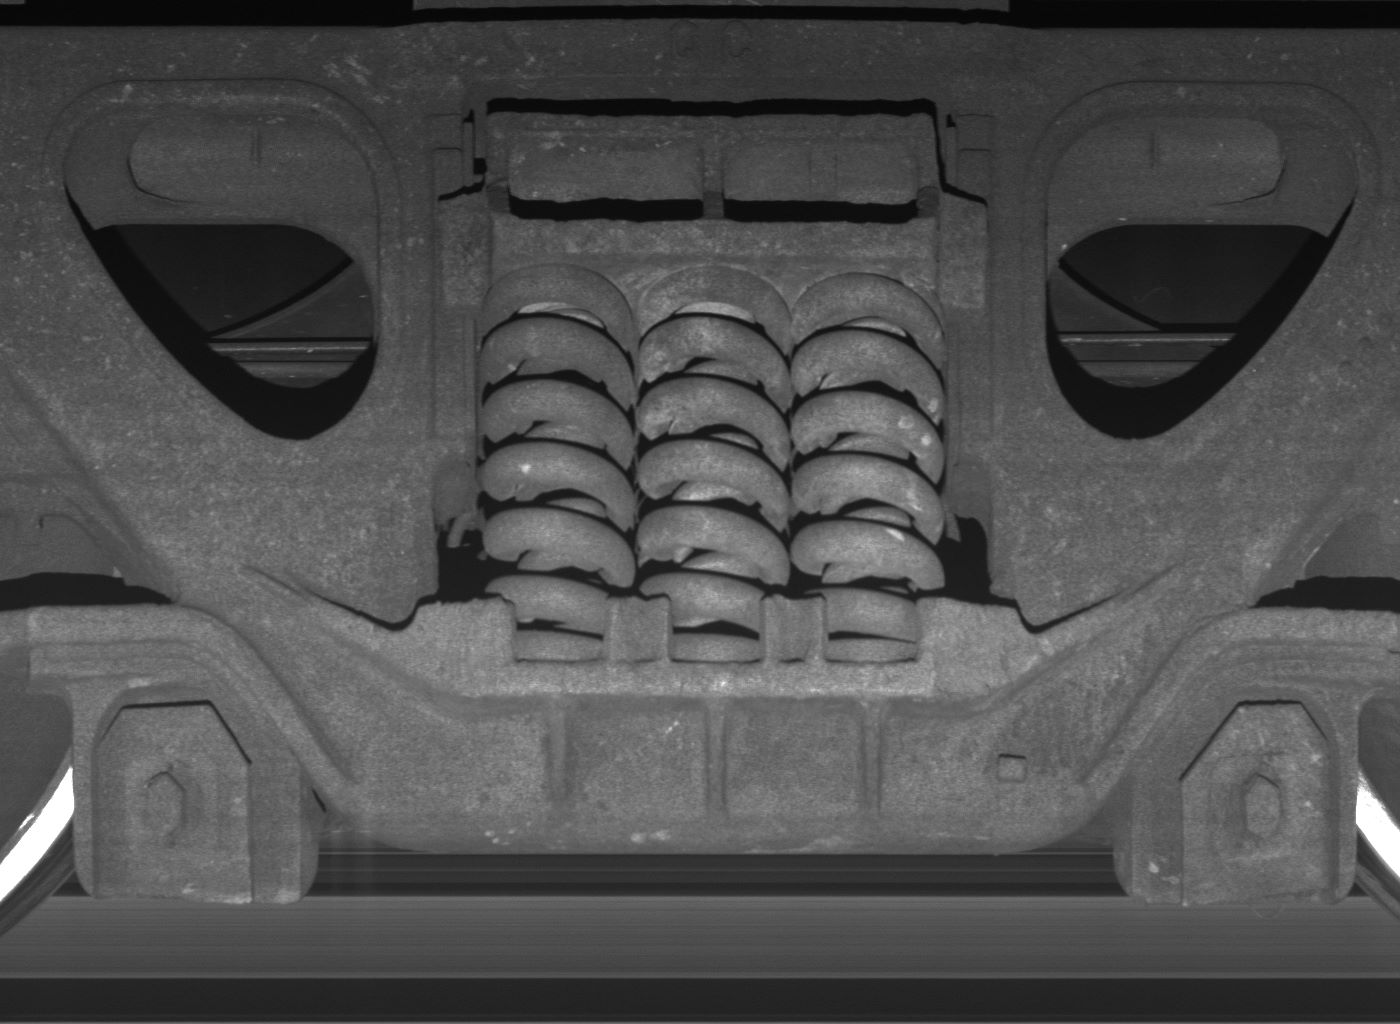normal: (74, 686, 302, 907), (1132, 684, 1357, 906)
